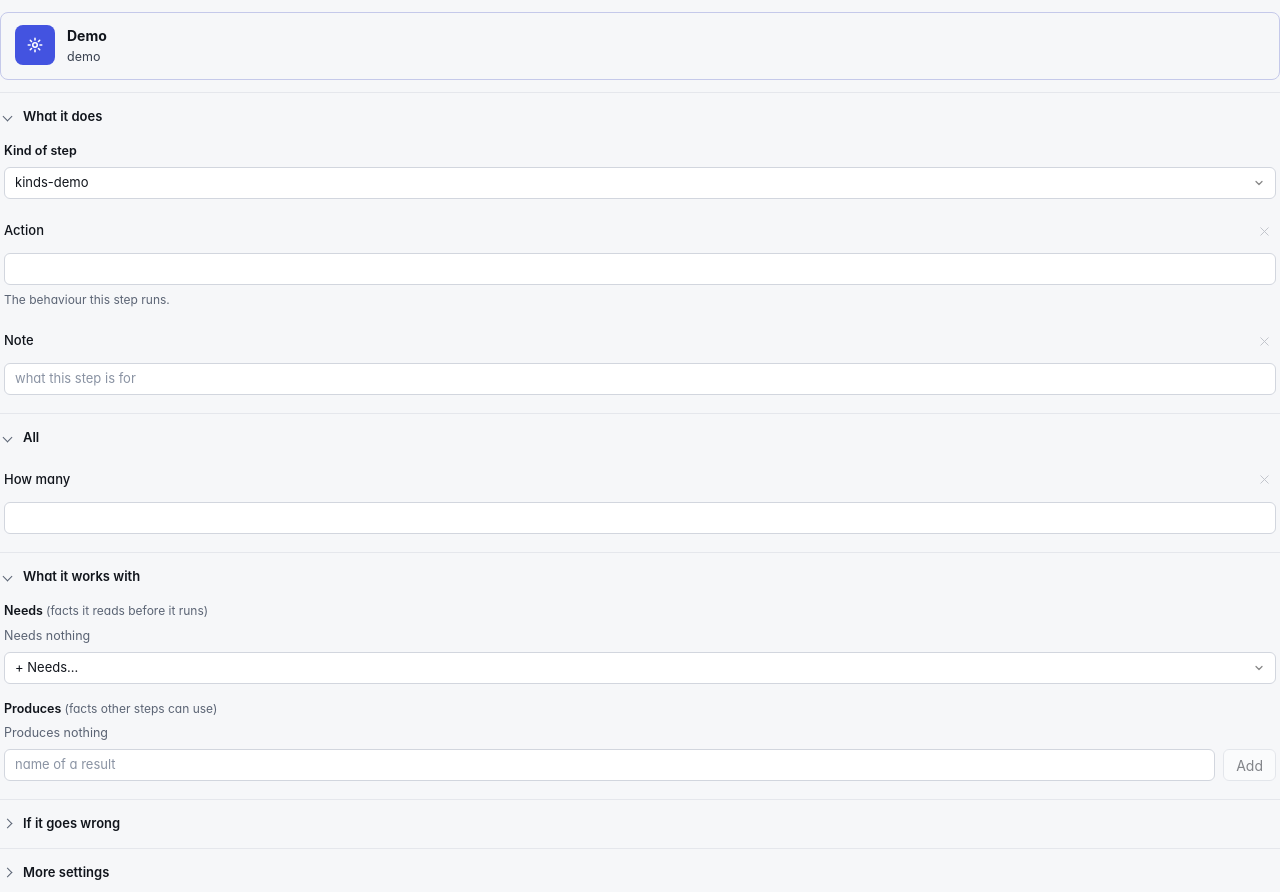
Scenario: each kind of field writes the right BCL › number: whole numbers only, bare
The width and height of the screenshot is (1280, 892).
Type "7" into the field labelled "How many". click: x=640, y=518
box: [4, 502, 1276, 534]
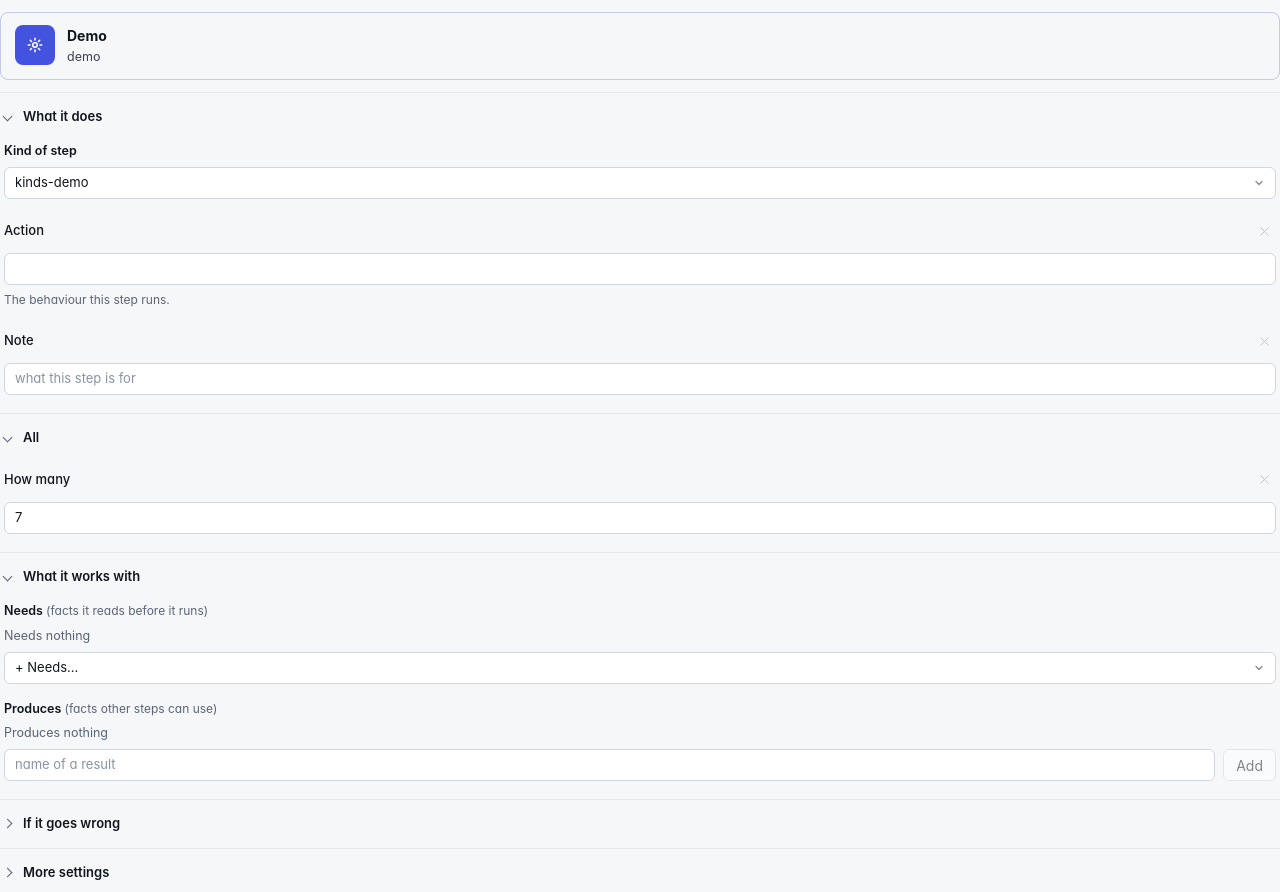
Replace the text in the field labelled "How many" with "seven". click: x=640, y=518
box: [4, 502, 1276, 534]
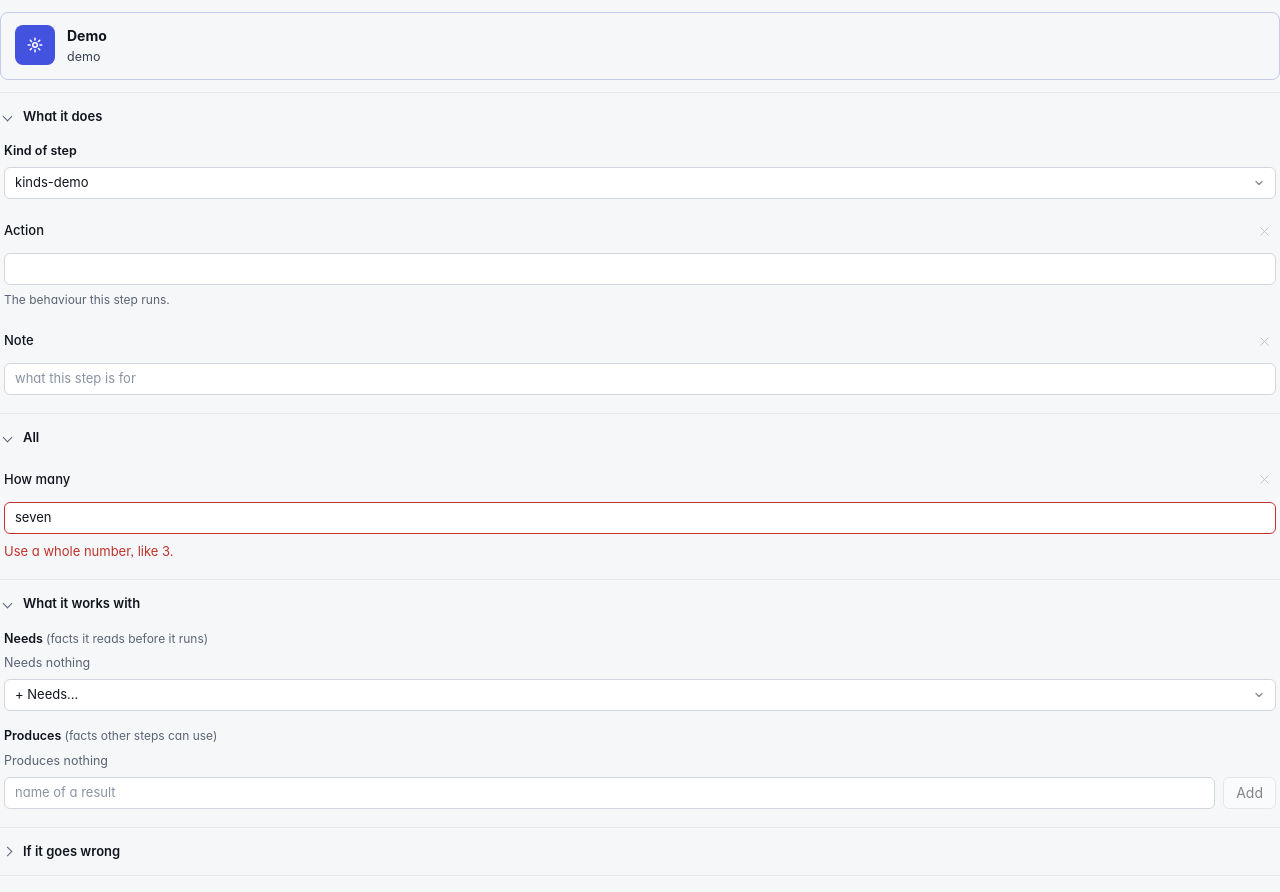
Check: the text "Use a whole number, like 3." is shown, box [4, 542, 174, 558]
